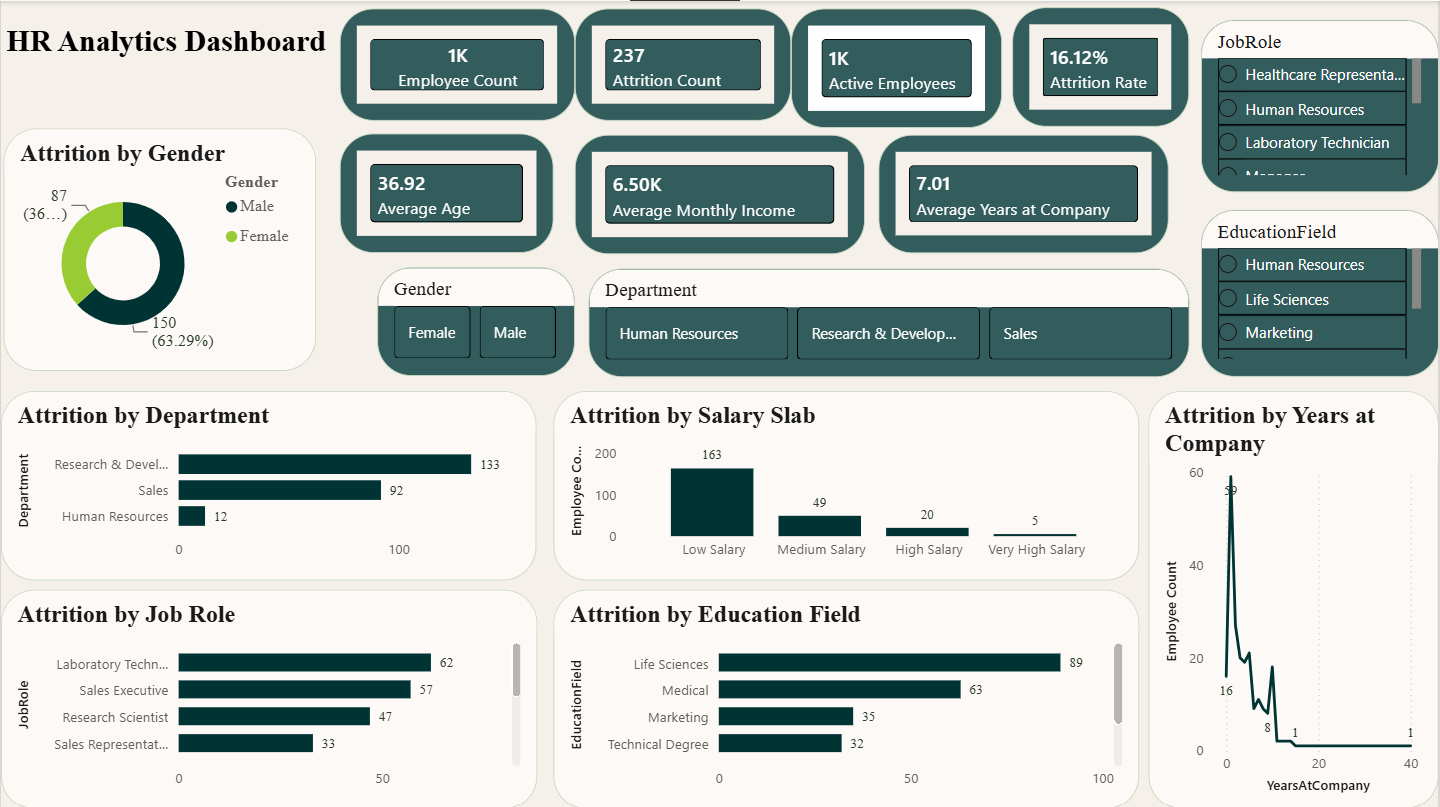

What the dashboard file says about the page in this screenshot:
{"tool":"powerbi","page":{"name":"Page 1","canvas":[1280,720],"ordinal":0},"visuals":[{"type":"cardVisual","fields":{"Data":["HR_Data.Employee Count"]},"box":[301.7,6.7,209.3,100],"z":0},{"type":"cardVisual","fields":{"Data":["HR_Data.Attrition Rate"]},"box":[900.6,5.6,157.8,106],"z":1000},{"type":"cardVisual","fields":{"Data":["HR_Data.Average Monthly Income"]},"box":[510.9,119.1,258.3,106],"z":2000},{"type":"cardVisual","fields":{"Data":["HR_Data.Attrition Count"]},"box":[510.9,6.7,193,100],"z":3000},{"type":"cardVisual","fields":{"Data":["HR_Data.Average Age"]},"box":[301.7,118,190.4,106],"z":4000},{"type":"cardVisual","fields":{"Data":["HR_Data.Active Employees"]},"box":[703.3,6.8,188.2,106],"z":6000},{"type":"clusteredBarChart","title":"Attrition by Department","fields":{"Category":["HR_Data.Department"],"Y":["HR_Data.Employee Count"]},"box":[0,347.2,476.8,169.1],"z":7000},{"type":"clusteredBarChart","title":"Attrition by Job Role","fields":{"Category":["HR_Data.JobRole"],"Y":["HR_Data.Employee Count"]},"box":[0,524.1,477.9,196.1],"z":8000},{"type":"donutChart","title":"Attrition by Gender","fields":{"Category":["HR_Data.Gender"],"Y":["HR_Data.Employee Count"]},"box":[2.3,113.8,278.4,216],"z":9000},{"type":"clusteredBarChart","title":"Attrition by Education Field","fields":{"Category":["HR_Data.EducationField"],"Y":["HR_Data.Employee Count"]},"box":[492.6,524.1,521.9,196.1],"z":10000},{"type":"clusteredColumnChart","title":"Attrition by Salary Slab","fields":{"Category":["HR_Data.Salary Slab"],"Y":["HR_Data.Employee Count"]},"box":[492.6,347.2,521.9,169.1],"z":11000},{"type":"lineChart","title":"Attrition by Years at Company","fields":{"Y":["HR_Data.Employee Count"],"Category":["HR_Data.YearsAtCompany"]},"box":[1021.9,347.3,258.3,372.9],"z":12000},{"type":"advancedSlicerVisual","fields":{"Values":["HR_Data.Department"]},"box":[523,237.8,535.4,96.9],"z":13000},{"type":"listSlicer","fields":{"Values":["HR_Data.JobRole"]},"box":[1068.5,16.9,211.9,153.3],"z":14000},{"type":"advancedSlicerVisual","fields":{"Values":["HR_Data.Gender"]},"box":[334.8,236.7,175.8,96.9],"z":15000},{"type":"listSlicer","fields":{"Values":["HR_Data.EducationField"]},"box":[1068.5,186,211.9,148.8],"z":16000},{"type":"textbox","box":[0,15.8,315.6,76.6],"z":17000},{"type":"cardVisual","fields":{"Data":["HR_Data.Average Years at Company"]},"box":[781.5,119.1,258.3,105.8],"z":18000}]}

Visuals, with their boxes in screenshot pixels (x1, y1, x2, y2), scaled from the page's 1280x720 canvas onto the 1440x807 screenshot:
cardVisual - HR_Data.Employee Count: (left=339, top=8, right=575, bottom=120)
cardVisual - HR_Data.Attrition Rate: (left=1013, top=6, right=1191, bottom=125)
cardVisual - HR_Data.Average Monthly Income: (left=575, top=133, right=865, bottom=252)
cardVisual - HR_Data.Attrition Count: (left=575, top=8, right=792, bottom=120)
cardVisual - HR_Data.Average Age: (left=339, top=132, right=554, bottom=251)
cardVisual - HR_Data.Active Employees: (left=791, top=8, right=1003, bottom=126)
"Attrition by Department" clusteredBarChart: (left=0, top=389, right=536, bottom=579)
"Attrition by Job Role" clusteredBarChart: (left=0, top=587, right=538, bottom=806)
"Attrition by Gender" donutChart: (left=3, top=128, right=316, bottom=370)
"Attrition by Education Field" clusteredBarChart: (left=554, top=587, right=1141, bottom=806)
"Attrition by Salary Slab" clusteredColumnChart: (left=554, top=389, right=1141, bottom=579)
"Attrition by Years at Company" lineChart: (left=1150, top=389, right=1439, bottom=806)
advancedSlicerVisual - HR_Data.Department: (left=588, top=267, right=1191, bottom=375)
listSlicer - HR_Data.JobRole: (left=1202, top=19, right=1439, bottom=191)
advancedSlicerVisual - HR_Data.Gender: (left=377, top=265, right=574, bottom=374)
listSlicer - HR_Data.EducationField: (left=1202, top=208, right=1439, bottom=375)
textbox: (left=0, top=18, right=355, bottom=104)
cardVisual - HR_Data.Average Years at Company: (left=879, top=133, right=1170, bottom=252)
